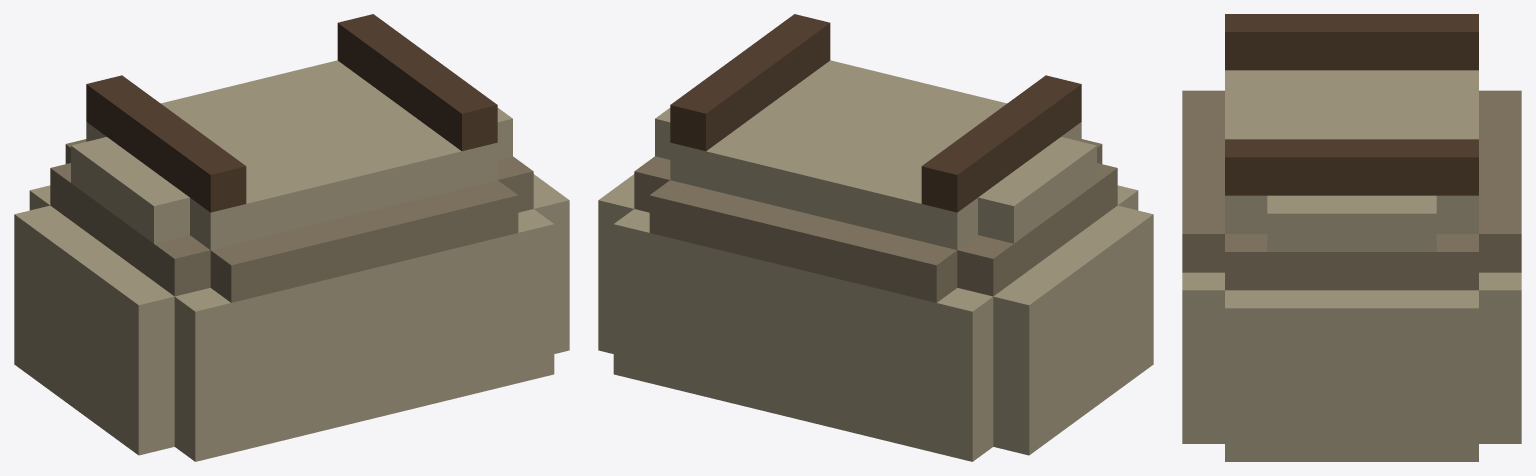
File: cloth_bolt.glb
The picture shows the model from 3 angles, left to right: view 1: azimuth 30°, elevation 25°; view 2: azimuth 150°, elevation 25°; view 3: azimuth 270°, elevation 25°; orthographic projection. The views are drawn at different scales.
Visible parts, largest first — view 1: VoxelVisual; view 2: VoxelVisual; view 3: VoxelVisual.
Part boxes in pixels (x1,y1,x2,y2): VoxelVisual: (14,14,569,461); VoxelVisual: (598,14,1153,461); VoxelVisual: (1182,14,1521,461).
Size of what is drawn, in the model's own units: 0.75 by 0.4375 by 0.5.
